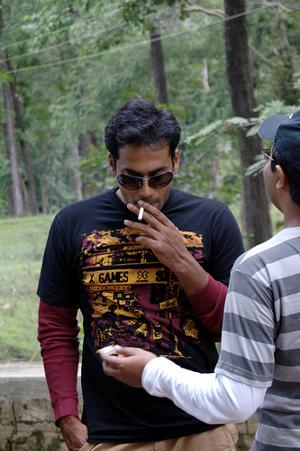person: (35, 100, 246, 450)
